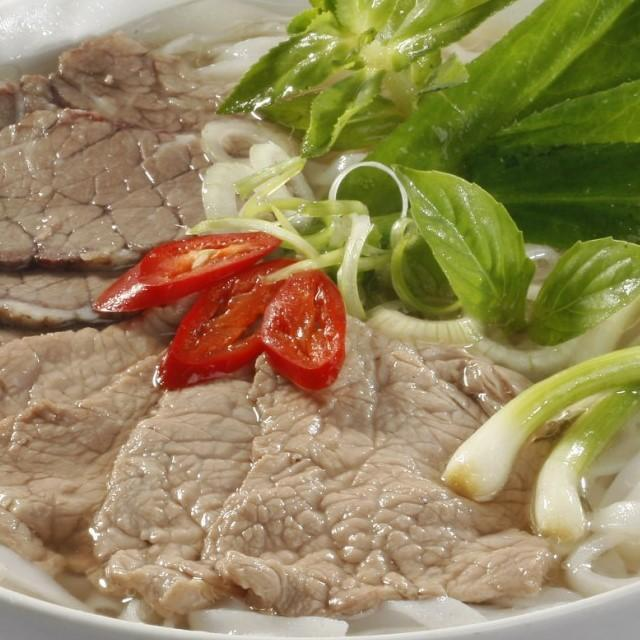banh pho: (162, 0, 369, 248), (552, 196, 640, 611), (0, 458, 126, 629)
pho bo: (0, 0, 640, 640)
thit bo: (202, 316, 572, 626), (82, 370, 296, 622), (0, 334, 198, 593), (0, 101, 220, 289), (0, 27, 224, 187), (0, 316, 175, 518), (0, 236, 206, 344), (0, 298, 116, 393)
